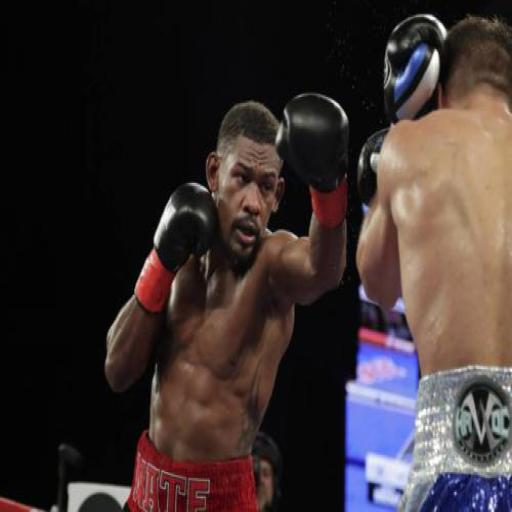boxing: (286, 31, 512, 512), (102, 89, 350, 511)
